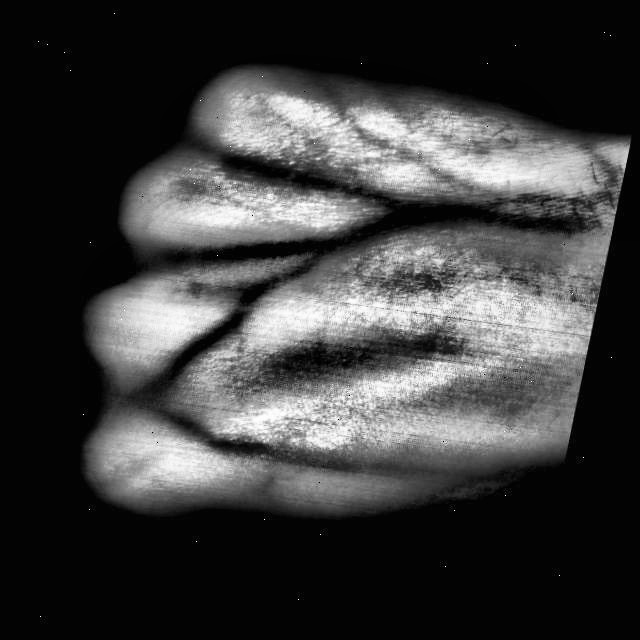Vein: (333, 189, 506, 254)
